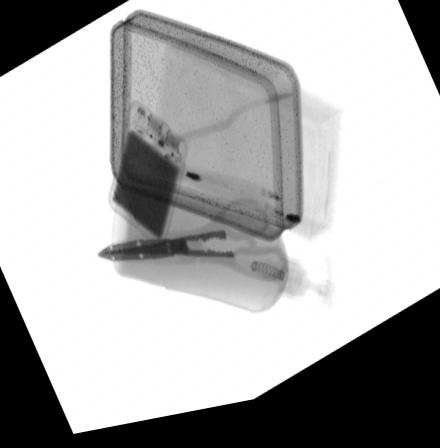Powerbank: (107, 105, 187, 253)
Scissors: (93, 208, 292, 296)
